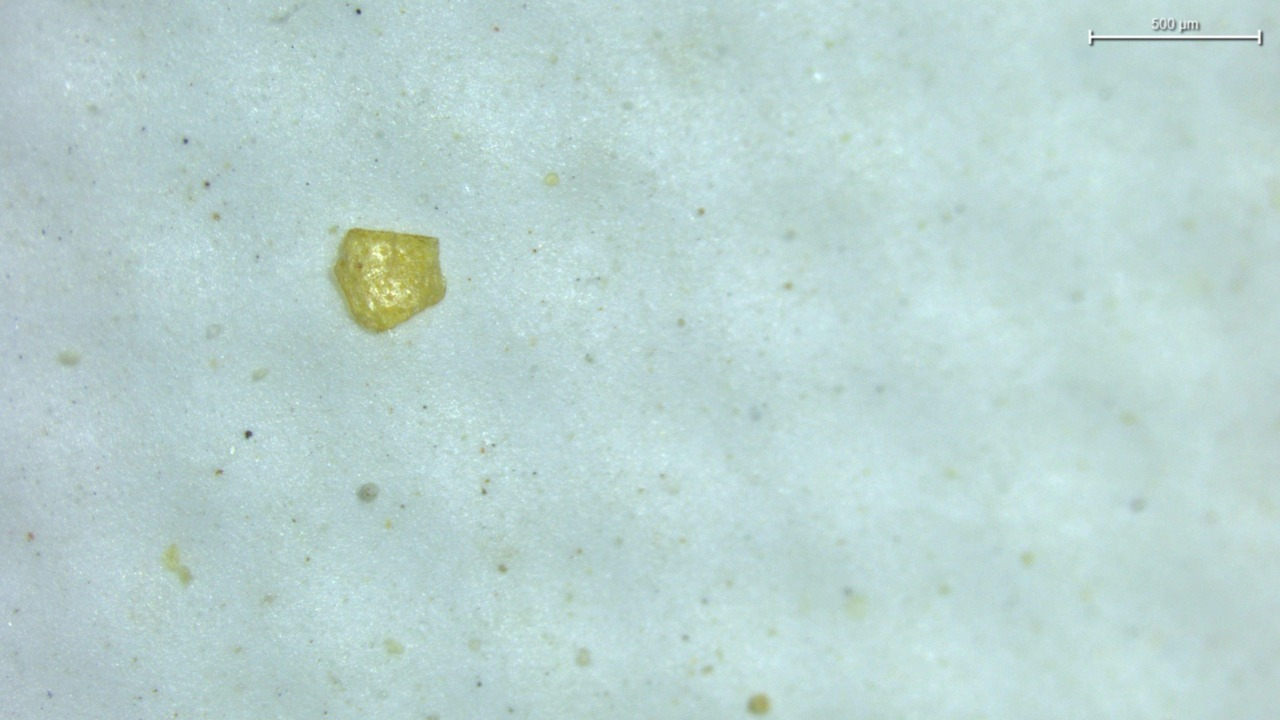microplastic_fragment: (334, 228, 445, 331)
